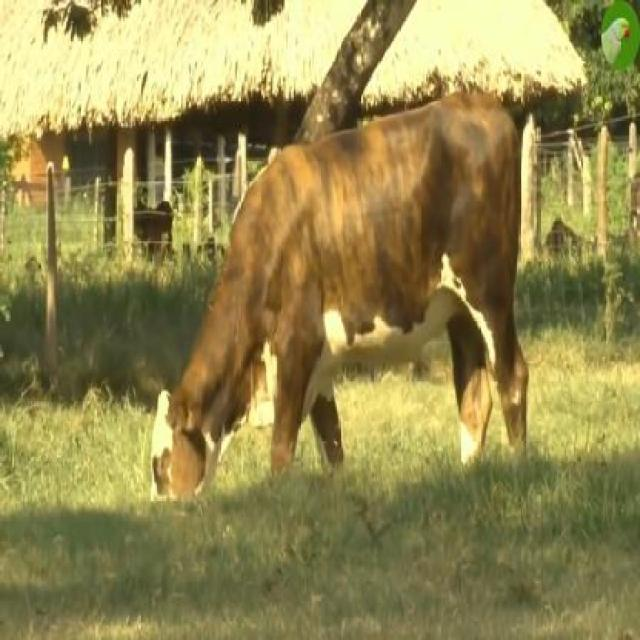Cow: (149, 94, 529, 501)
